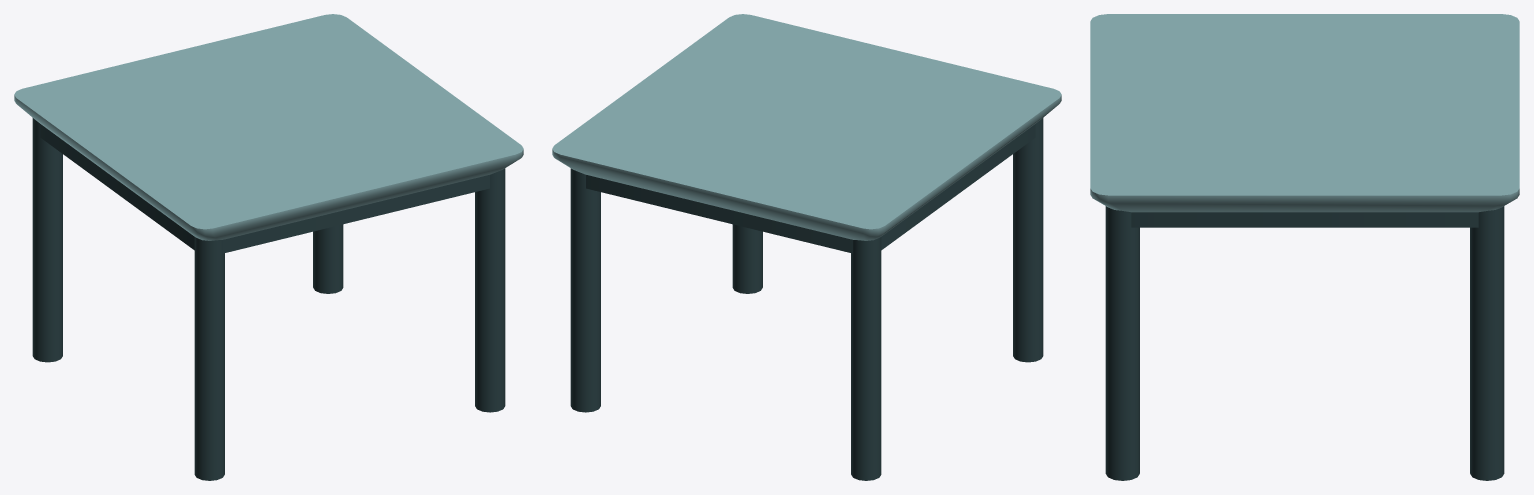
The model's file is EM_133_blue_table_var4.glb.
3 renders of one model, left to right at view 1: azimuth 30°, elevation 25°; view 2: azimuth 150°, elevation 25°; view 3: azimuth 270°, elevation 25°, orthographic. The views are drawn at different scales.
Parts seen in each view (by area): view 1: table_var4, legs_var4; view 2: table_var4, legs_var4; view 3: table_var4, legs_var4.
Part boxes in pixels (left/top/right/bottom): table_var4: left=14, top=14, right=523, bottom=253; legs_var4: left=32, top=118, right=505, bottom=480; table_var4: left=552, top=14, right=1061, bottom=253; legs_var4: left=570, top=118, right=1043, bottom=480; table_var4: left=1090, top=14, right=1519, bottom=227; legs_var4: left=1105, top=206, right=1504, bottom=480.
Size of the model in its own units: 1.5 by 1.12 by 1.5.
